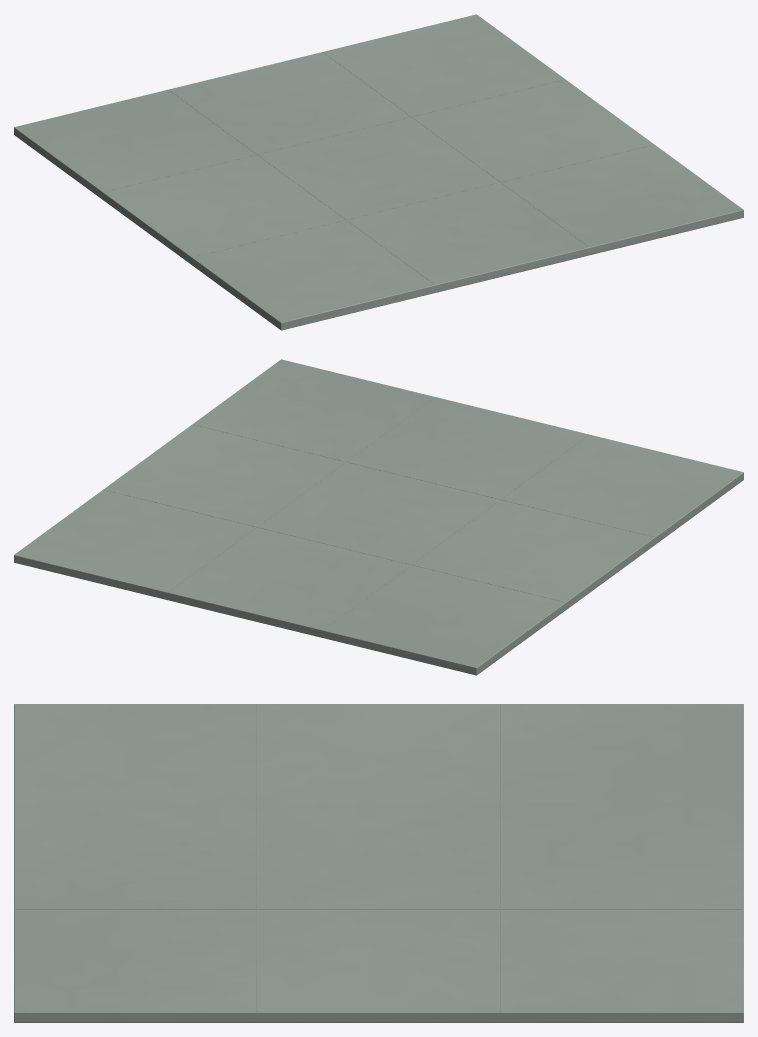
Rendered from Power_Floor.glb.
3 views of the same model, one above another, from view 1: azimuth 30°, elevation 25°; view 2: azimuth 150°, elevation 25°; view 3: azimuth 270°, elevation 25° (orthographic). The views are drawn at different scales.
Visible parts, largest first — view 1: Power_Floor; view 2: Power_Floor; view 3: Power_Floor.
Part boxes in pixels (left/top/right/bottom): Power_Floor: left=14, top=14, right=743, bottom=330; Power_Floor: left=14, top=359, right=743, bottom=675; Power_Floor: left=14, top=704, right=743, bottom=1022.
Bounding box in the file's own units: 12 × 0.204 × 12.
2 materials, 1 textured.
